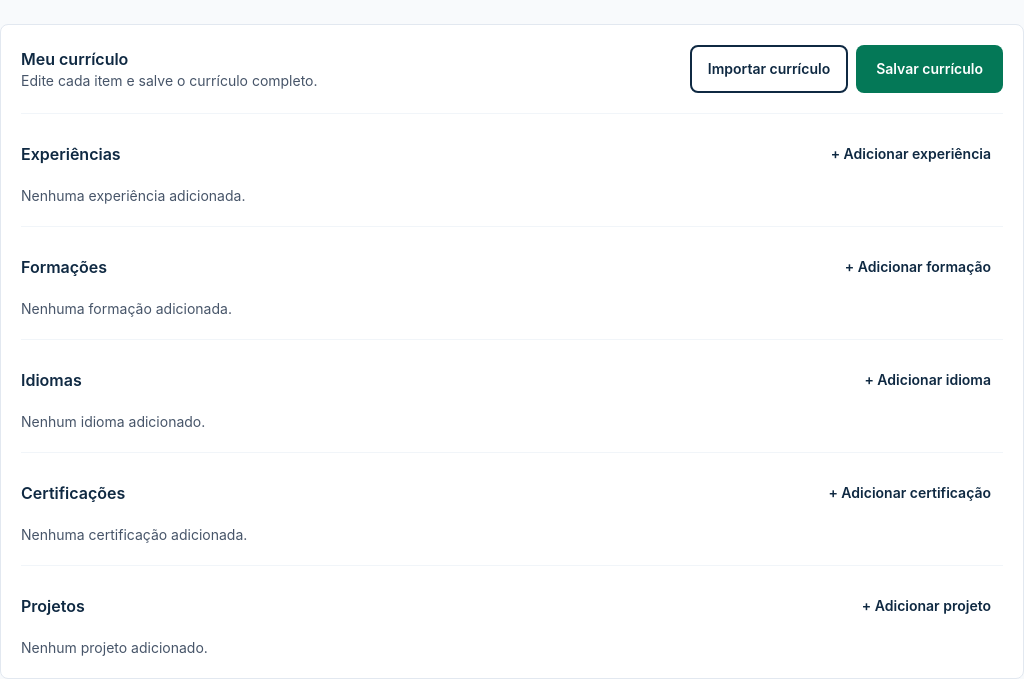
idioma sem nivel bloqueia o salvamento
Check: the heading "Experiências" is shown, box [21,142,121,166]
Click the button "+ Adicionar idioma": [928, 380] box [852,356,1003,404]
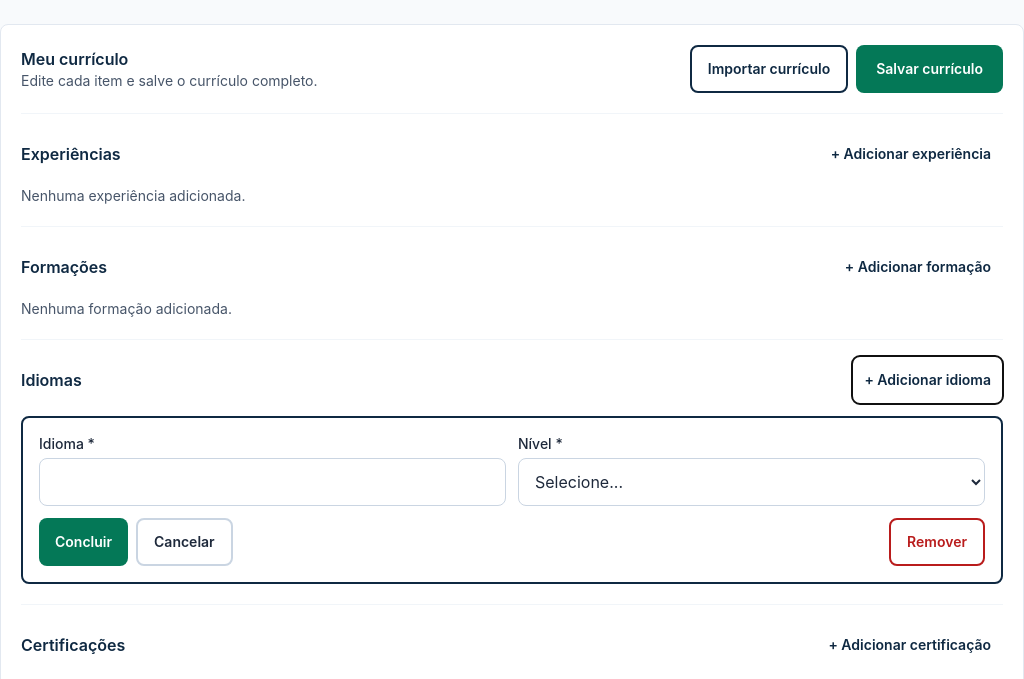
In the field labelled "Idioma *": [272, 482] box [39,458,506,506], type "Ingles"
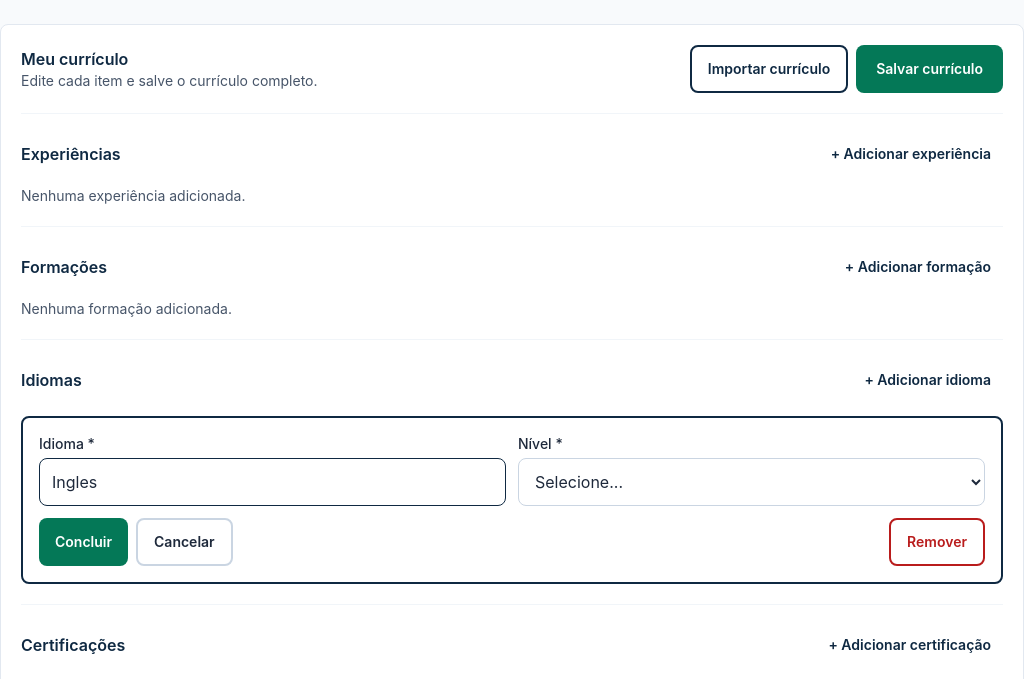
Click the button "Concluir": [84, 542] box [39,518,128,566]
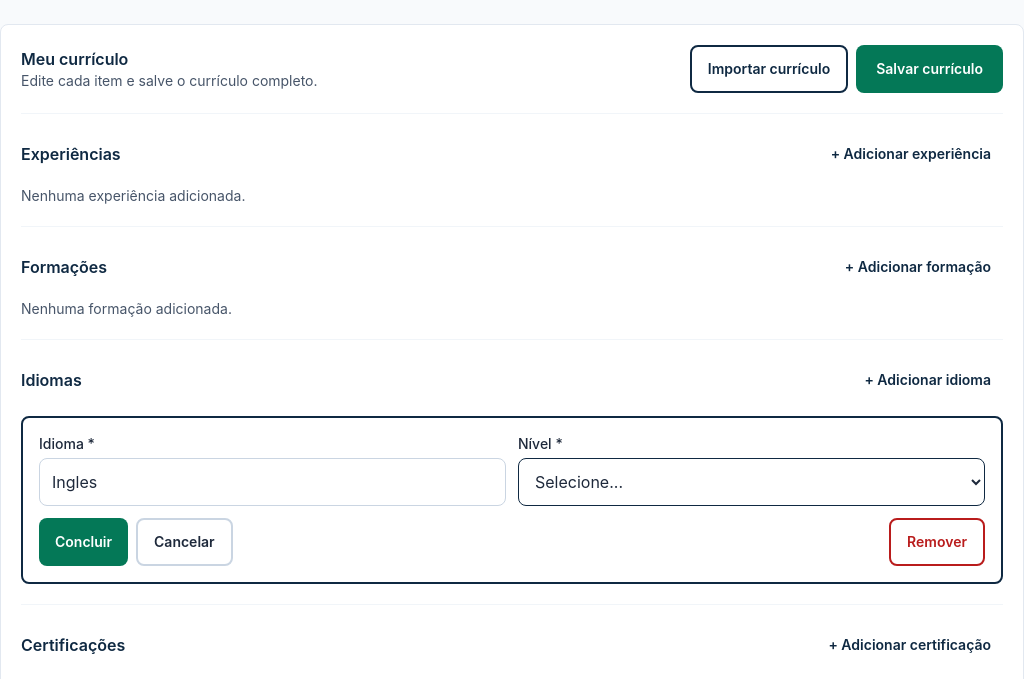
Click the button "Salvar currículo": [930, 69] box [856,45,1003,93]
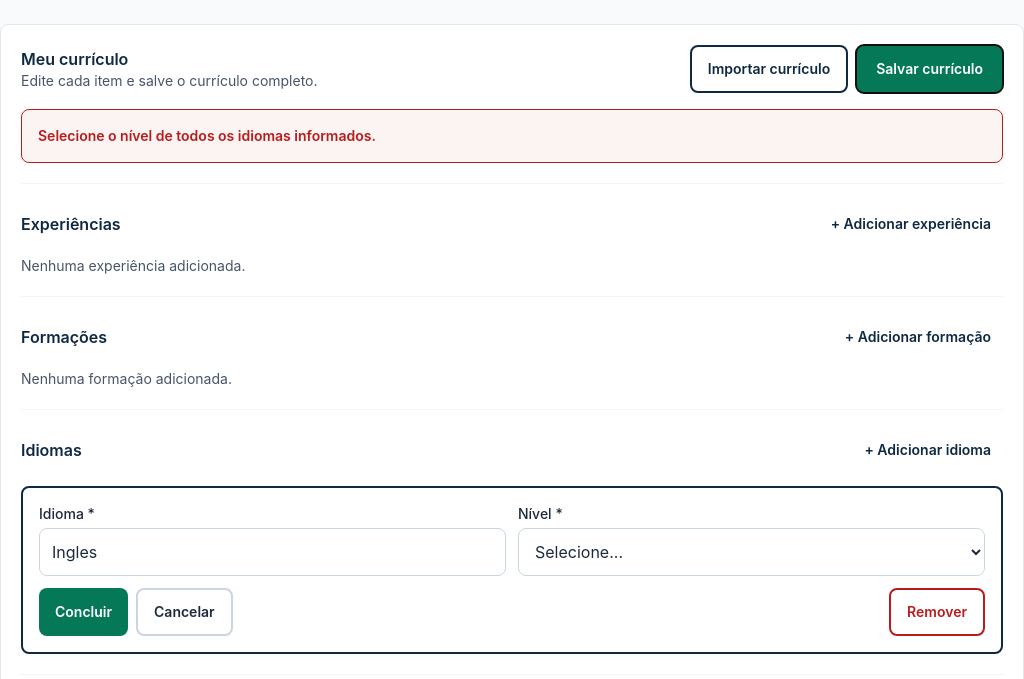
Check: the text "Selecione o nível de todos os idiomas informados." is shown, box [38,127,376,144]
